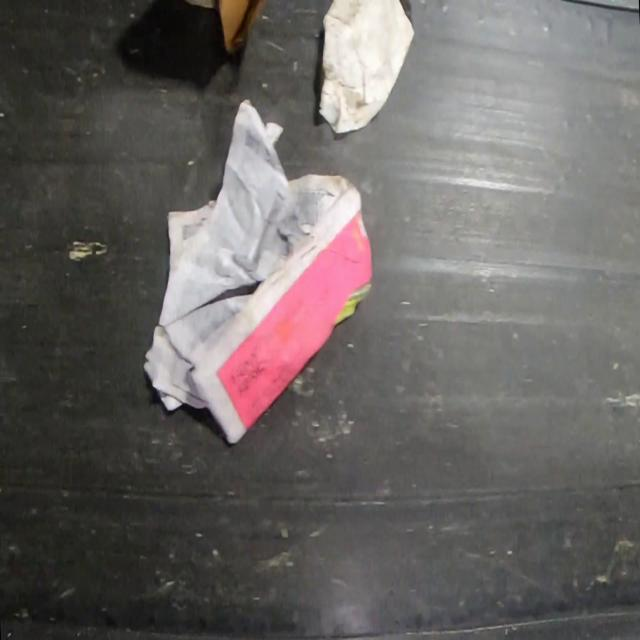cardboard: (181, 0, 268, 53)
